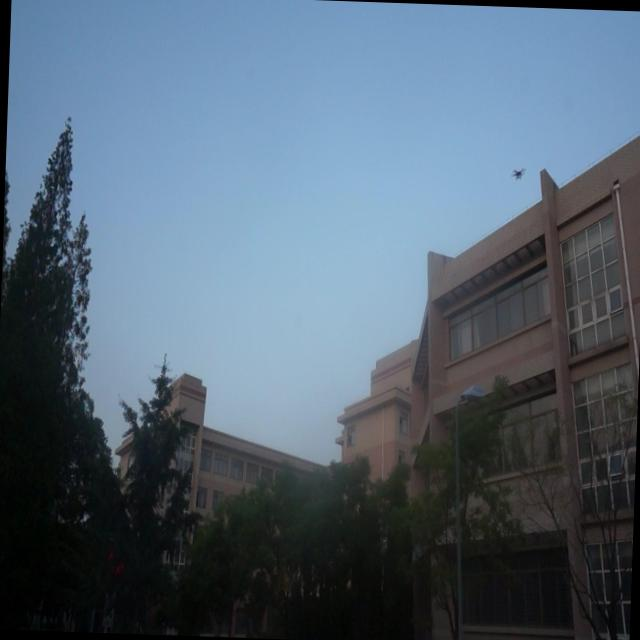drone: (510, 165, 526, 182)
